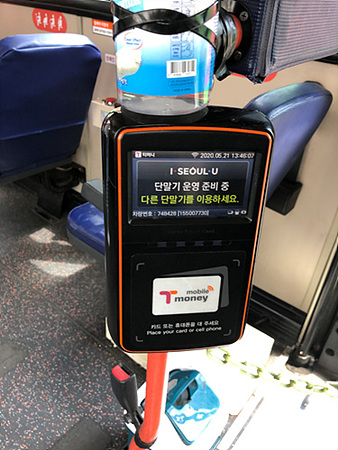terminal: (105, 104, 261, 350)
